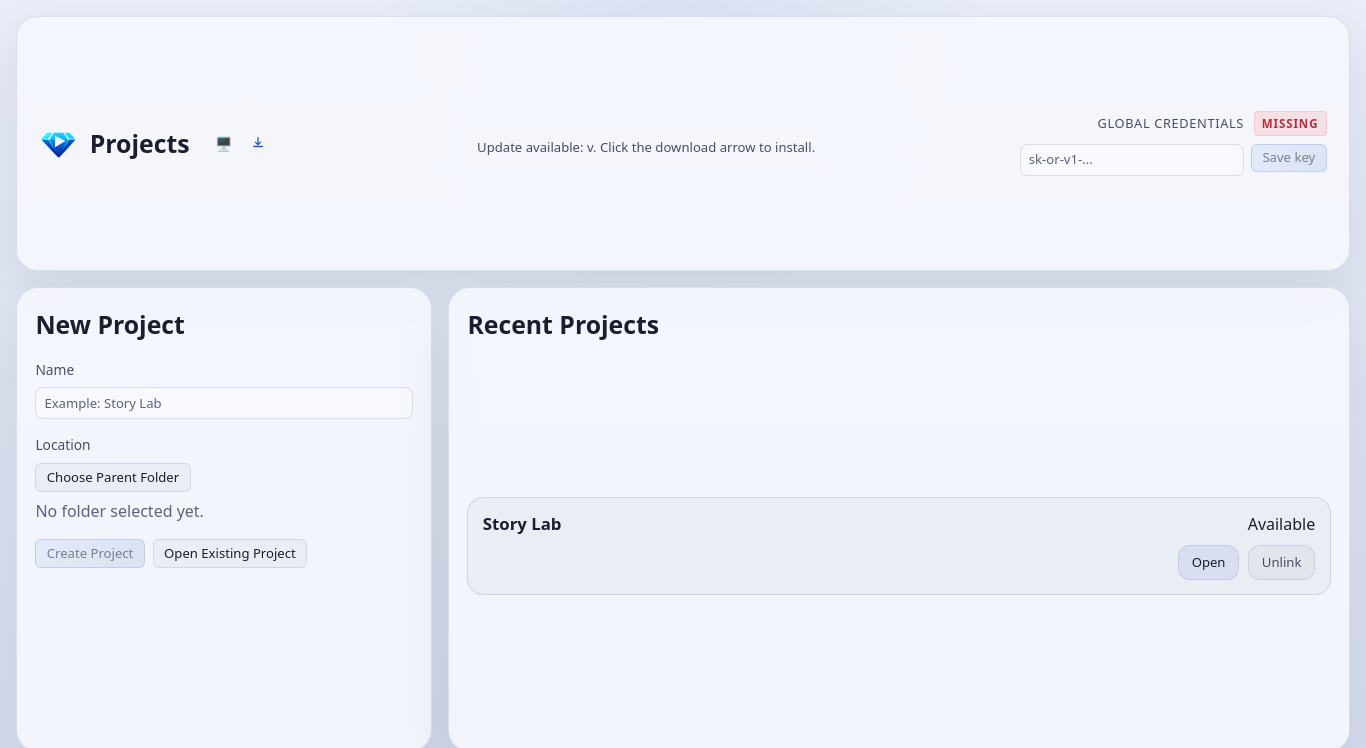
Test: App › reports an audit-only conversion status without writing a file
Click the button "Open Existing Project" at (230, 553), box [153, 539, 307, 568]
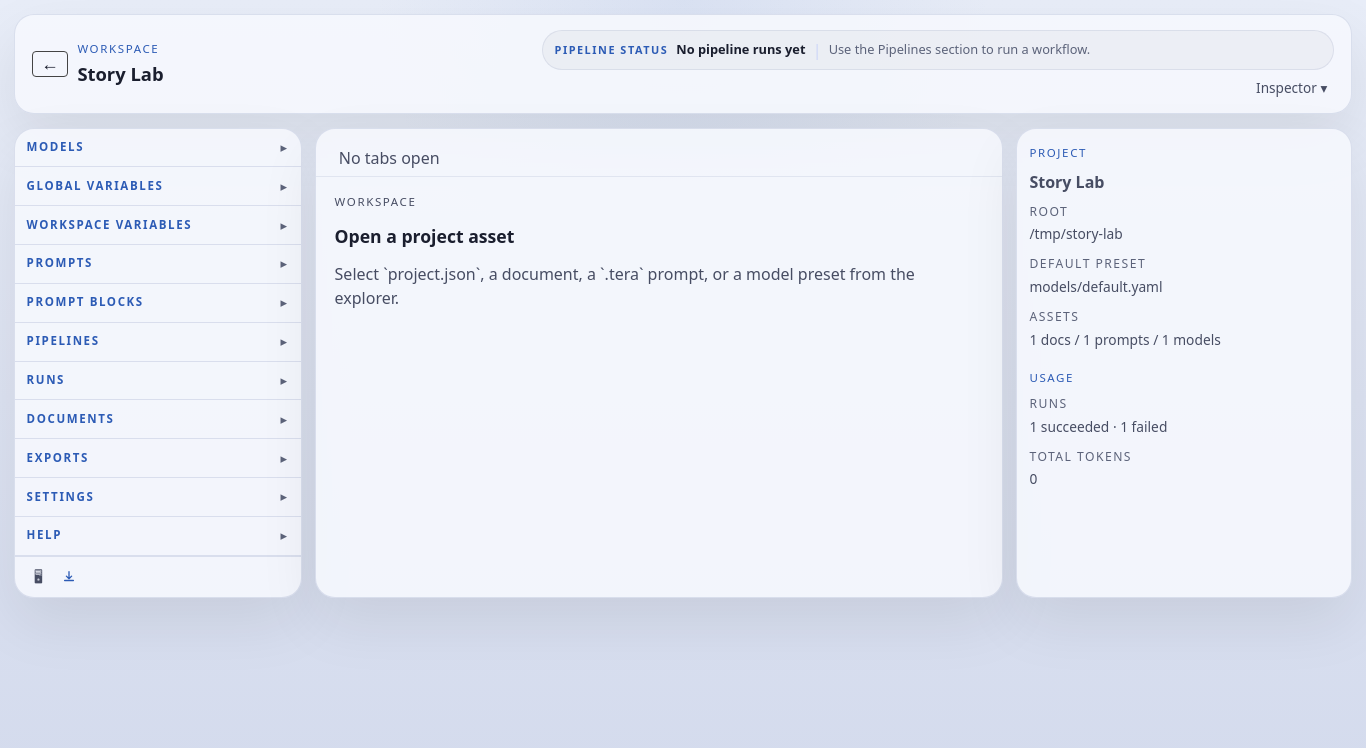
Check: the 1st heading "Story Lab" is shown, box [77, 60, 164, 88]
Check: the button "Documents ▸" is shown
Click the button "Documents ▸" at (71, 418), box [15, 400, 301, 438]
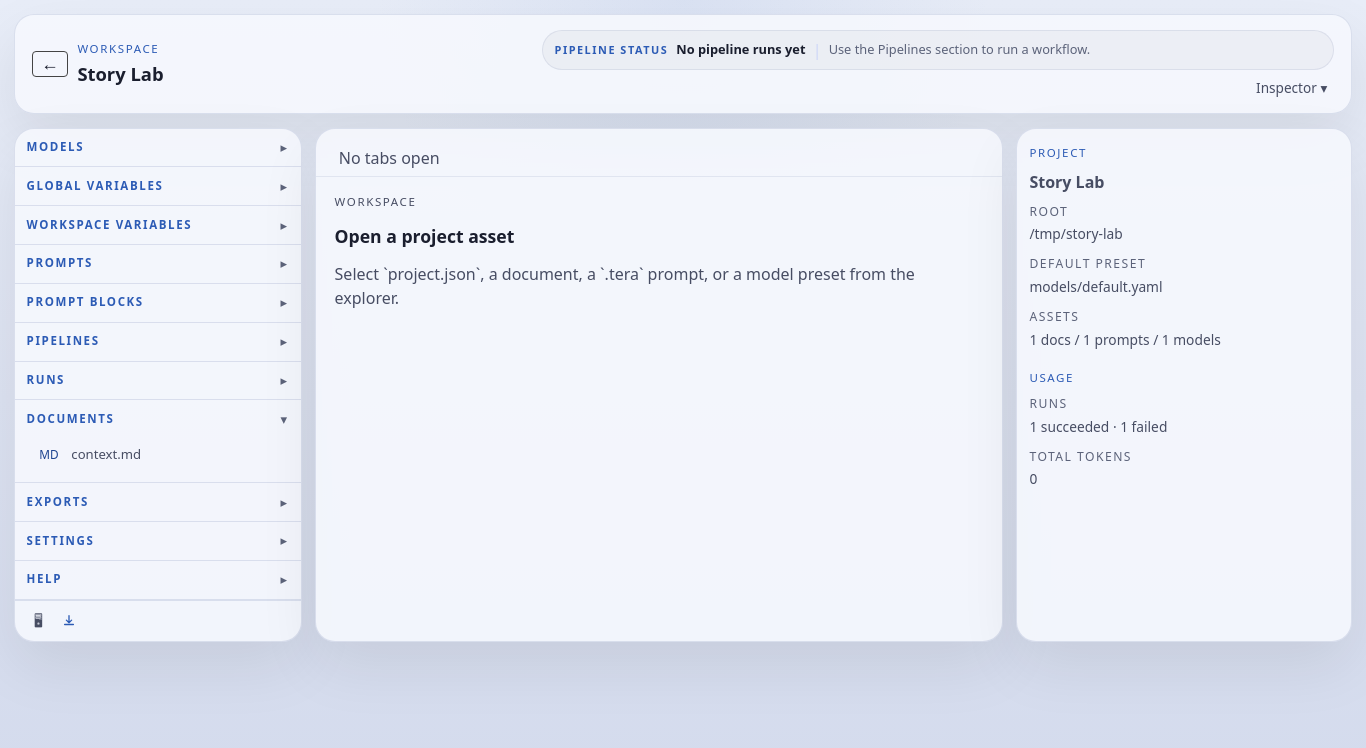
Check: the button "MD context.md" is shown
Click the button "MD context.md" at (106, 454), box [27, 438, 289, 470]
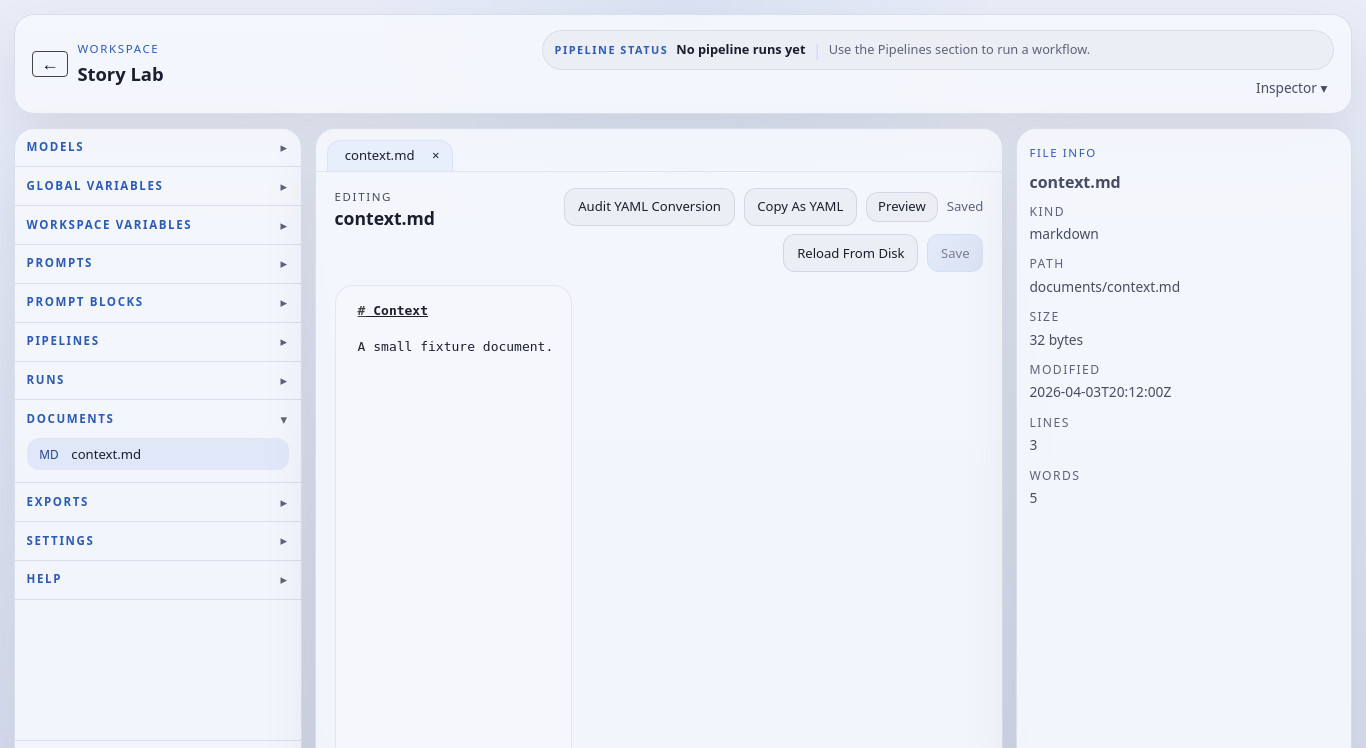
Click the button "Audit YAML Conversion" at (650, 207), box [564, 188, 735, 226]
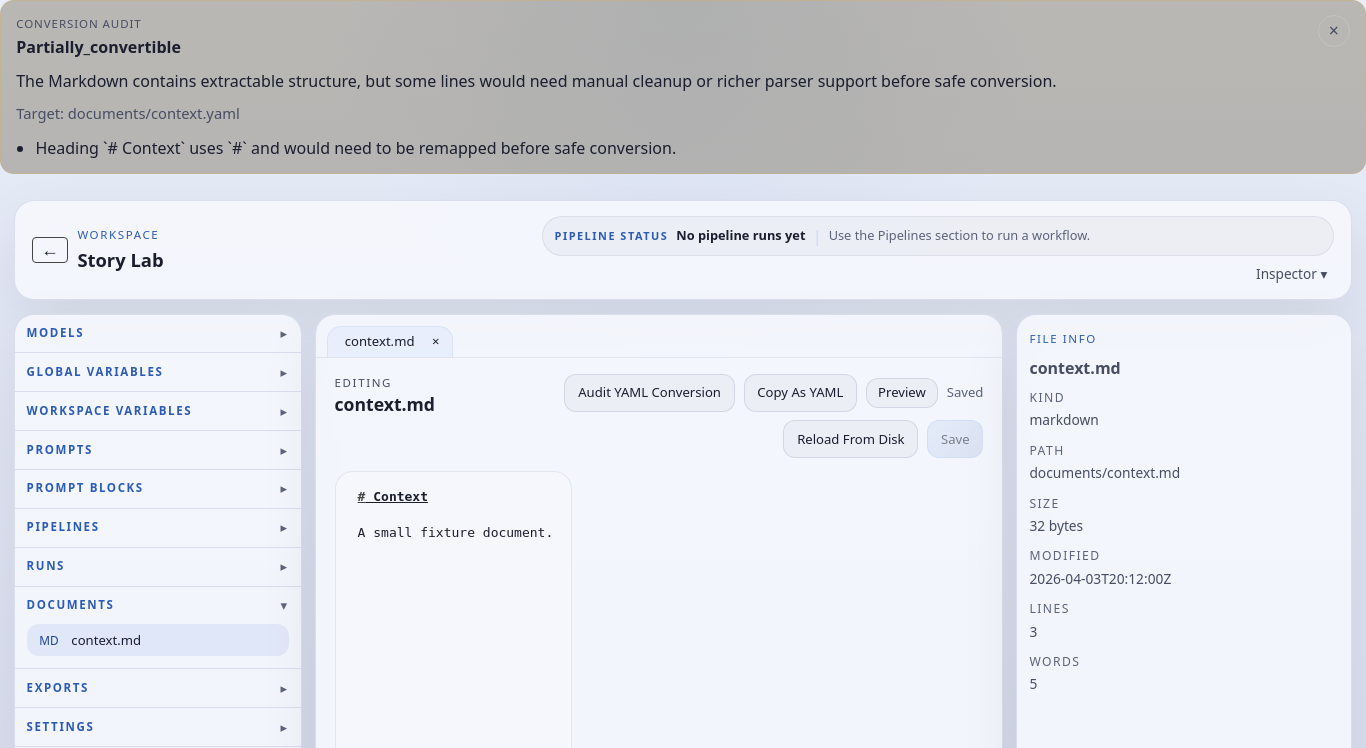
Check: the heading "partially_convertible" is shown, box [16, 35, 181, 59]
Check: the text "Conversion Audit" is shown, box [16, 16, 142, 31]
Check: the list item "Heading `# Context` uses `#`" is shown, box [35, 136, 676, 158]
Click the button named "Dismiss message" at (1334, 31), box [1318, 15, 1350, 47]
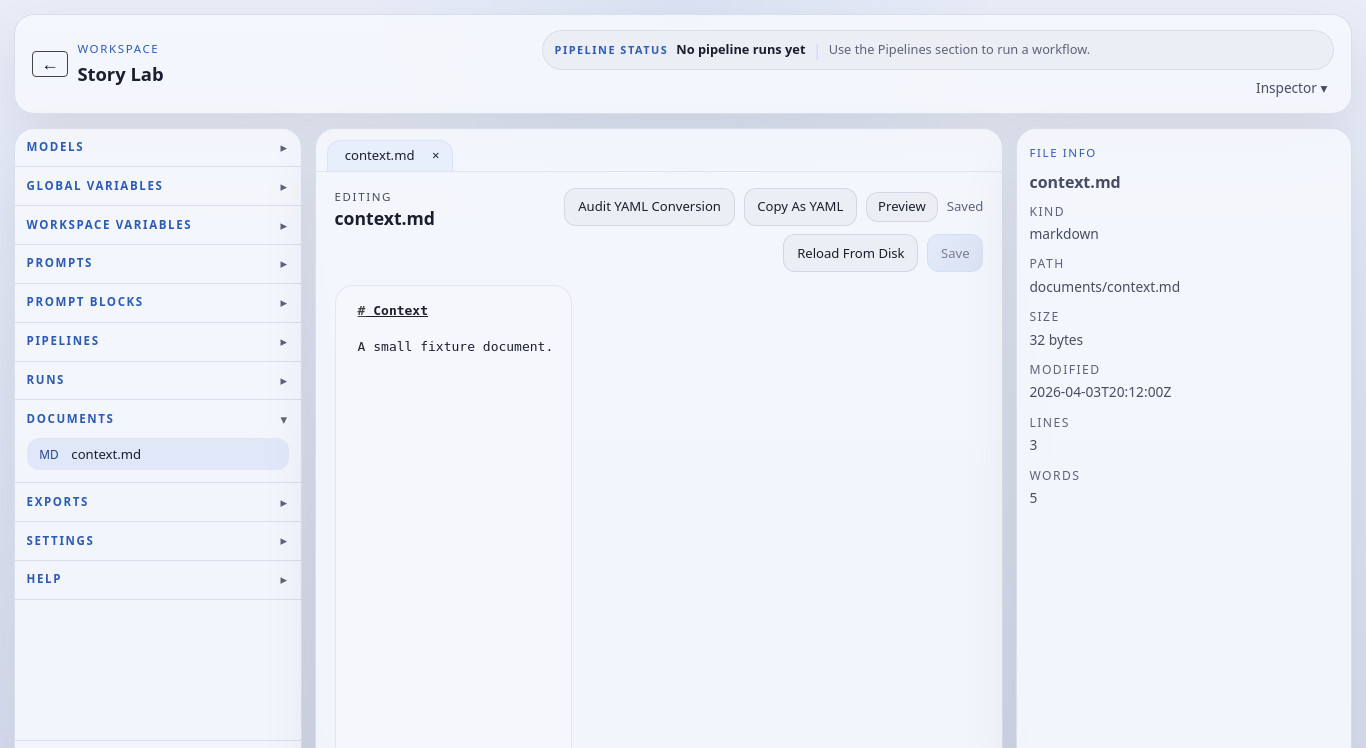
Check: the text "Conversion Audit" is gone
